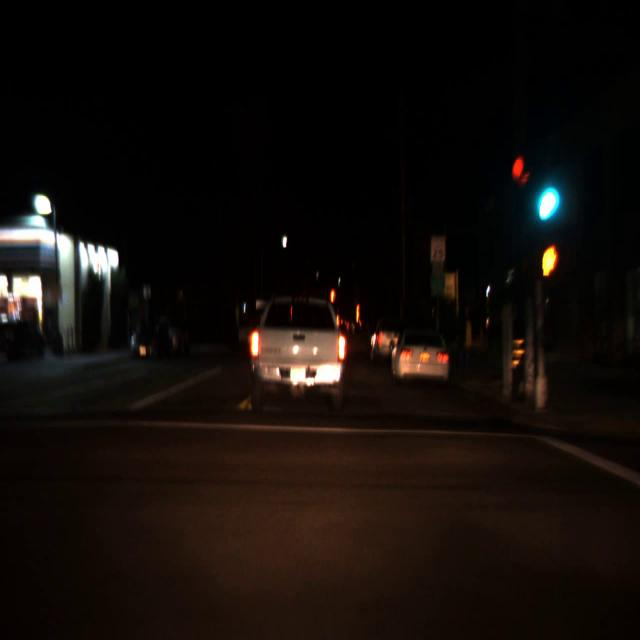go: (532, 165, 556, 222)
go traffic light: (532, 165, 556, 222)
stop: (331, 289, 334, 315)
stop traffic light: (331, 289, 334, 315)
